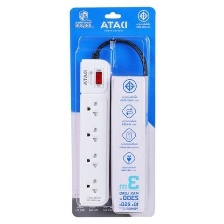book: (69, 5, 156, 220)
three_eye_plug: (77, 55, 114, 208)
